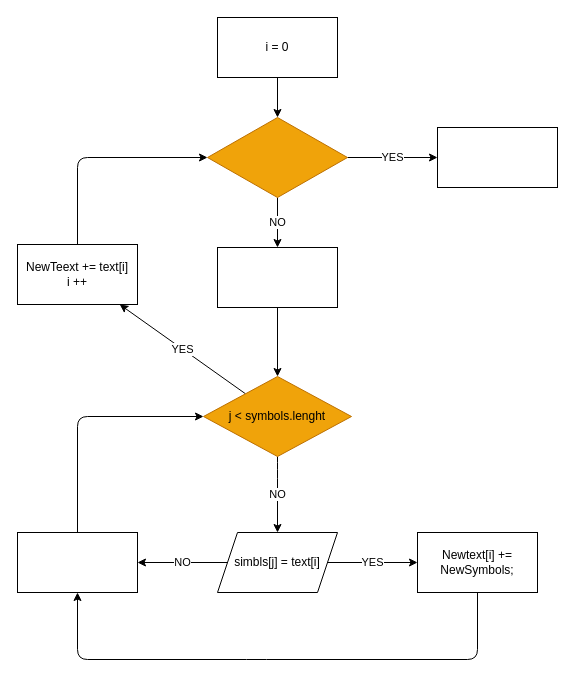
The diagram is 575 pixels wide and 685 high, and some of its shapes have lost their labels. Here are the shapes that lost their labels. From the top down, the centre of each, then its label:
At point 277,157: "i < text.Lenght".
At point 277,277: "j = 0".
At point 77,562: "j ++".
